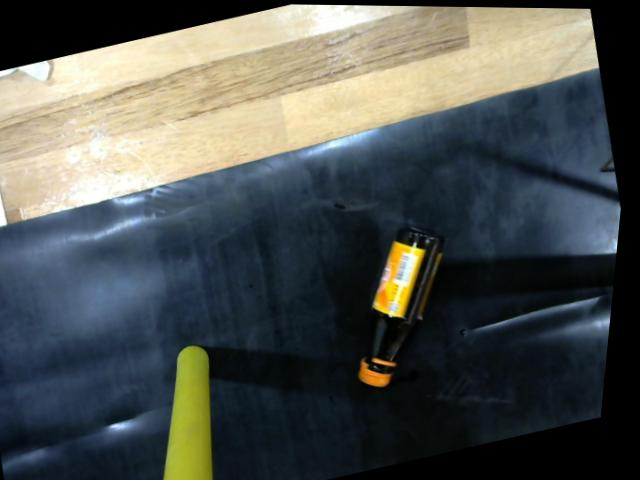glass: (353, 214, 458, 397)
